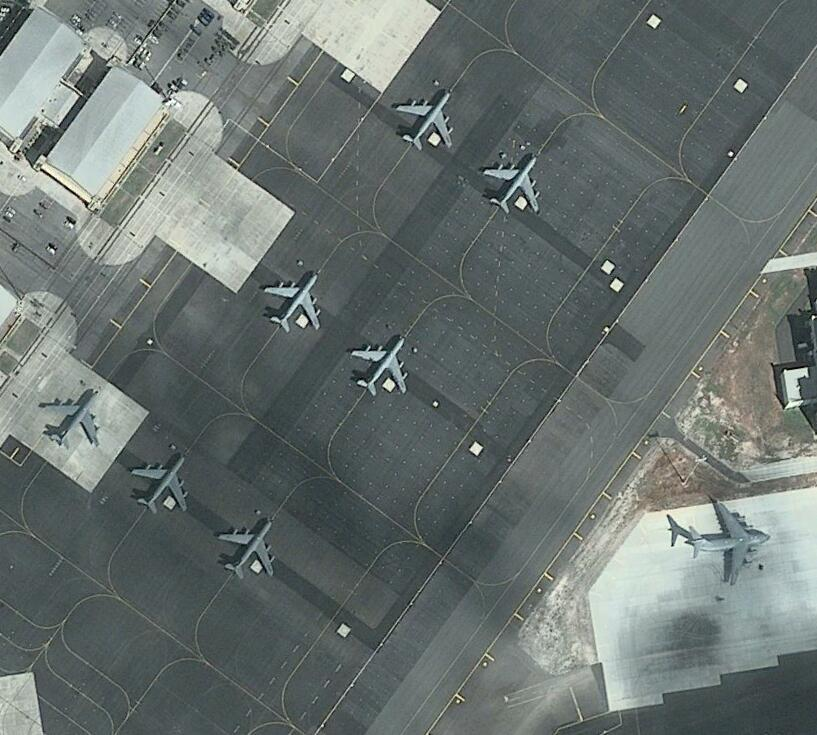A14: (263, 265, 327, 337), (41, 383, 108, 449), (394, 86, 458, 155), (218, 513, 279, 581), (131, 451, 193, 516), (485, 151, 545, 215), (352, 331, 411, 396)
A3: (689, 500, 773, 588)
